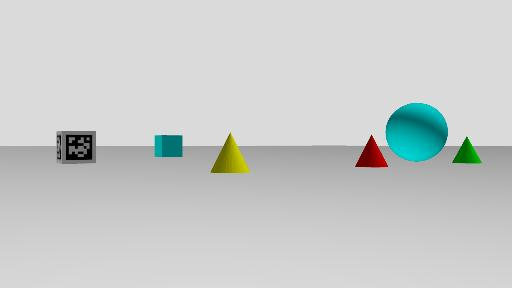green_cone: (452, 136, 482, 163)
red_cone: (354, 134, 389, 168)
yellow_cone: (209, 131, 251, 174)
